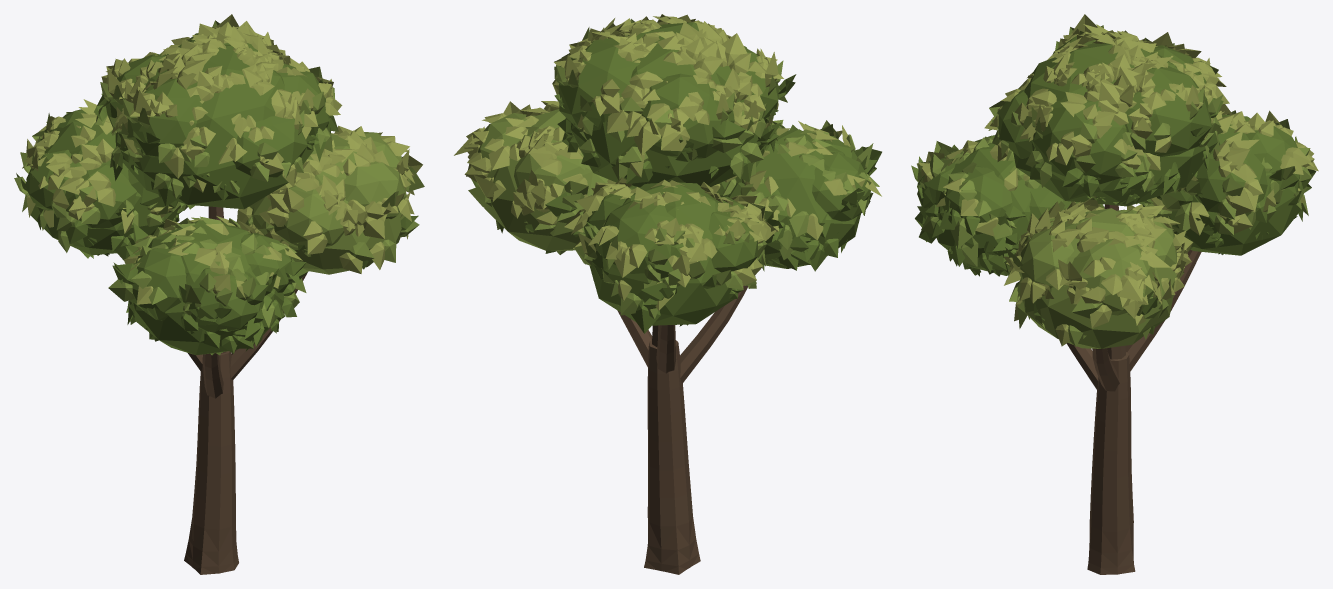
3 renders of one model, left to right at view 1: azimuth 30°, elevation 25°; view 2: azimuth 150°, elevation 25°; view 3: azimuth 270°, elevation 25°, orthographic. The views are drawn at different scales.
Parts seen in each view (by area): view 1: crown, trunk; view 2: crown, trunk; view 3: crown, trunk.
Part boxes in pixels (x1,y1,x2,y2): crown: (14, 14, 424, 355); trunk: (184, 206, 307, 574); crown: (454, 14, 881, 333); trunk: (617, 285, 747, 574); crown: (911, 14, 1318, 348); trunk: (1066, 204, 1201, 574).
Bounding box in the file's own units: 3.73 × 5.39 × 3.82.
